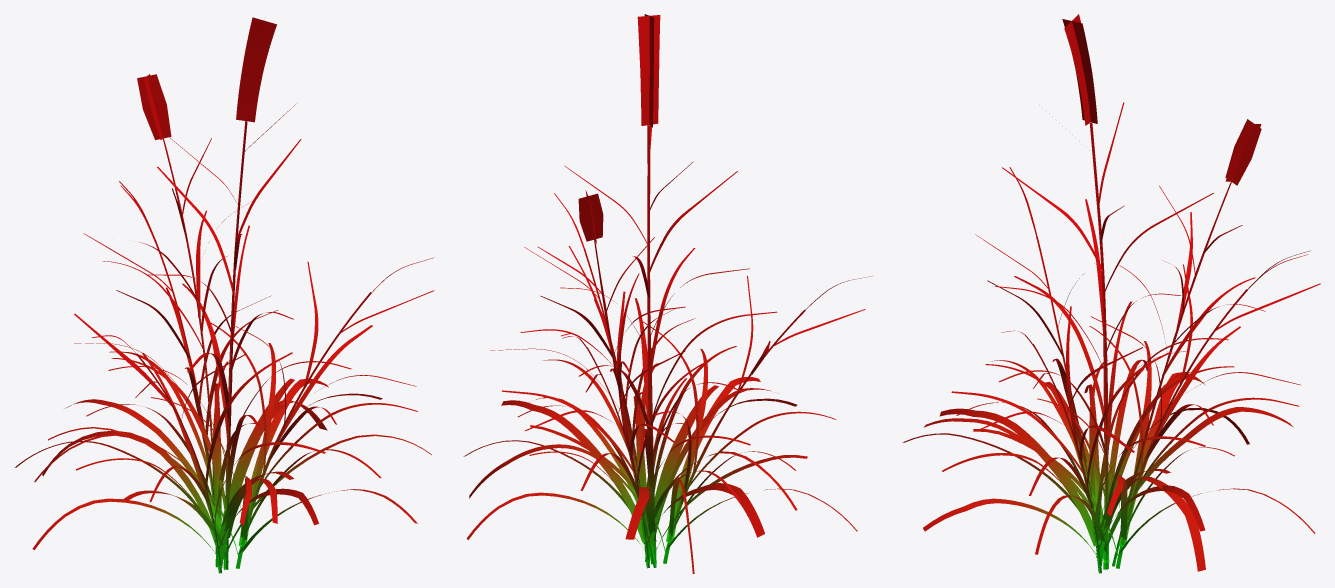
File: slglZ_Var5_LOD0.fbx
3 views of the same model, side by side, from view 1: azimuth 30°, elevation 25°; view 2: azimuth 150°, elevation 25°; view 3: azimuth 270°, elevation 25° (orthographic). The views are drawn at different scales.
Visible parts, largest first — view 1: _81d0_Var5_LOD0; view 2: _81d0_Var5_LOD0; view 3: _81d0_Var5_LOD0.
Part boxes in pixels (x1,y1,x2,y2): _81d0_Var5_LOD0: (15,17,434,573); _81d0_Var5_LOD0: (463,14,872,573); _81d0_Var5_LOD0: (902,14,1320,573).
Bounding box in the file's own units: 34 × 48.42 × 32.72.
